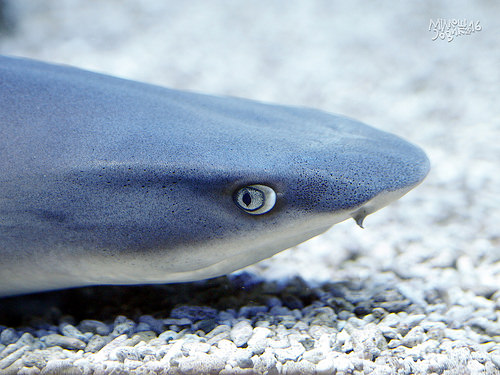shark: (3, 45, 450, 292)
